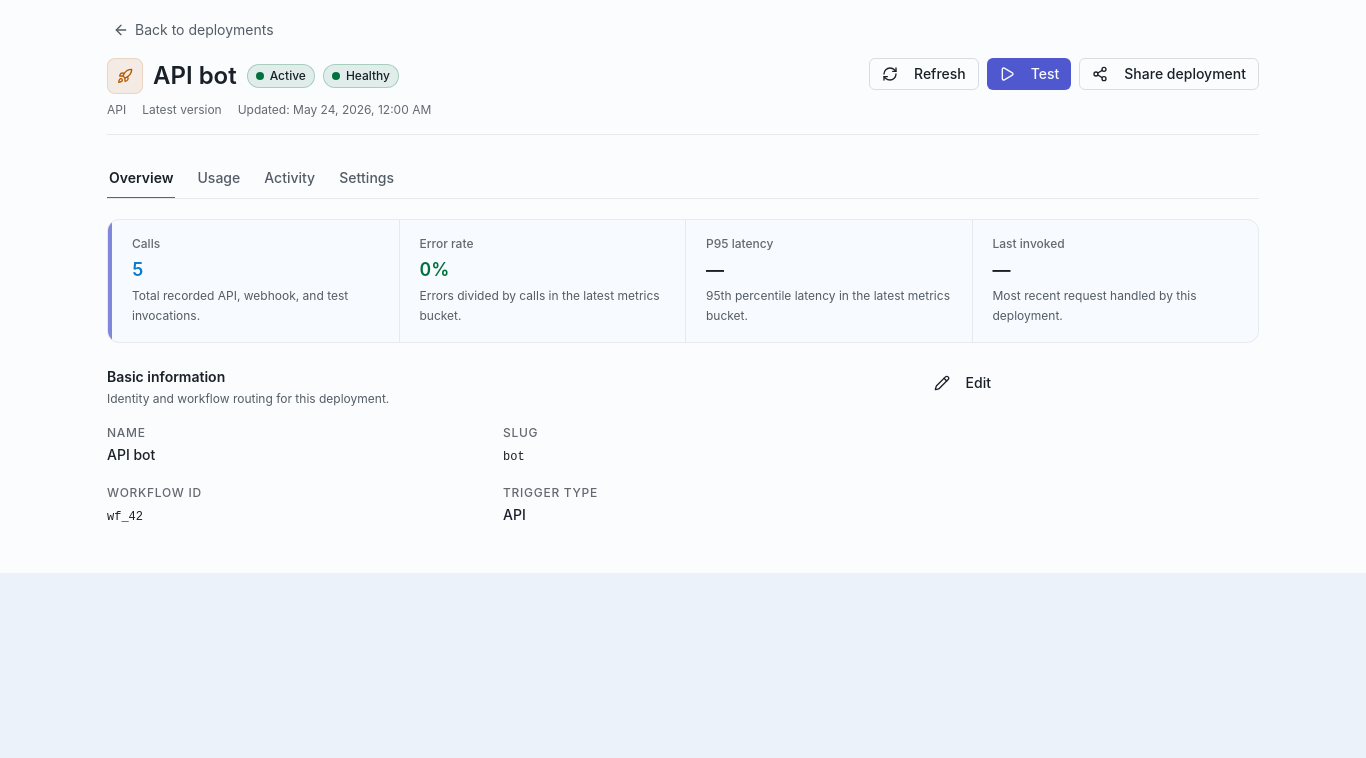
it: <DeploymentDetailPage> › uses the workflow StartNode fields in code examples and test inputs
This screenshot has width=1366, height=758.
Expected: the heading "API bot" is shown, [153,60,237,92]
What coordinates should you click on to do the following:
click the tab "Usage"
I would click on:
 (219, 179)
Its box is [196,159,242,199].
(page scrolled)
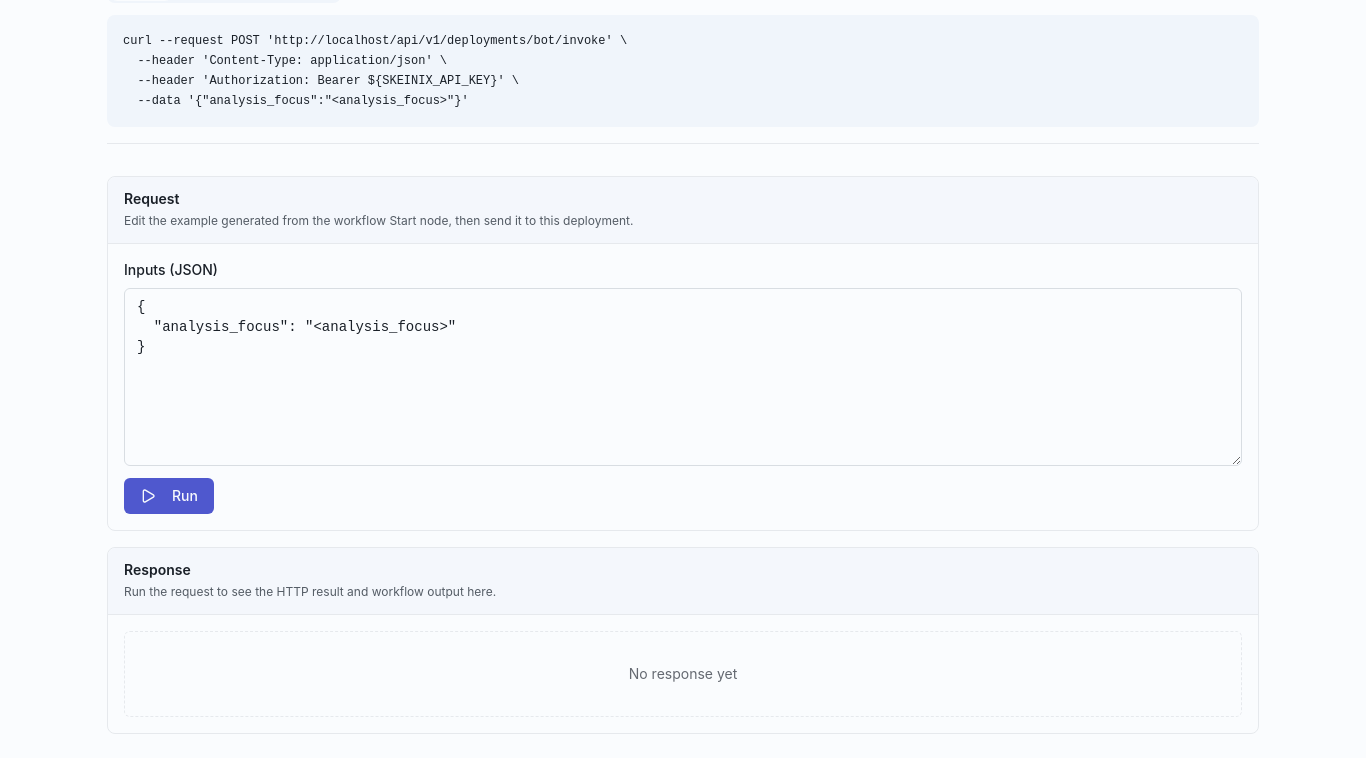
Now the element with test id "deployment-code-curl" shows "\"analysis_focus\":\"<analysis_focus>\"", box [123,34,627,108]
